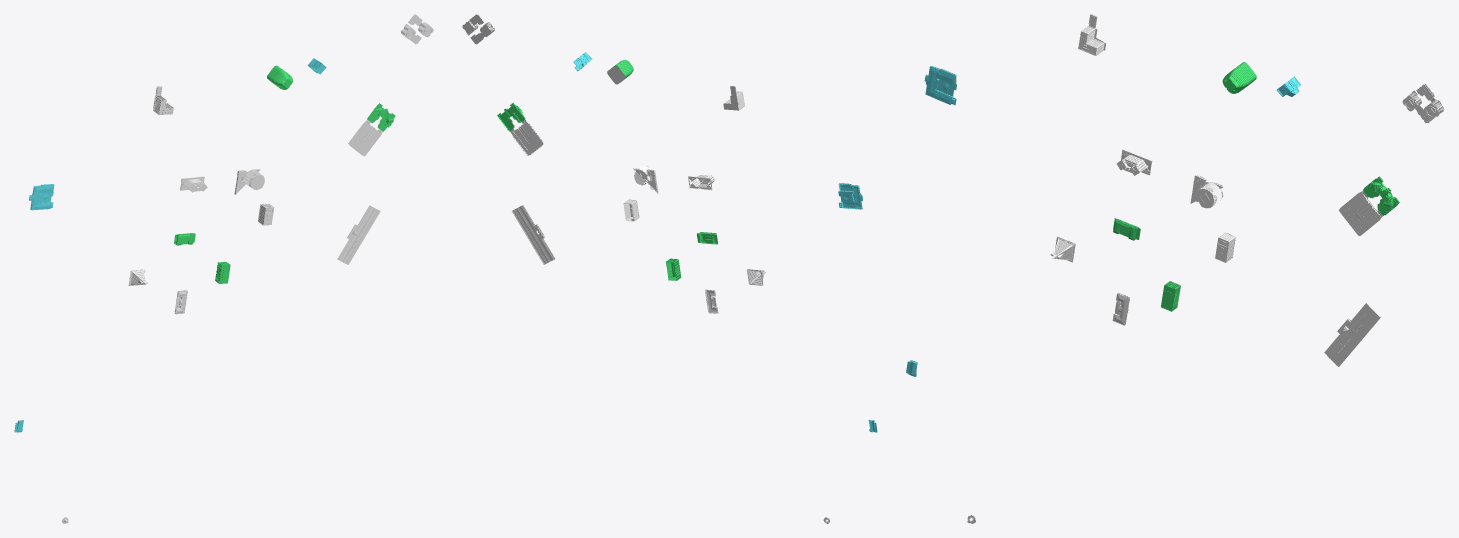
3 renders of one model, left to right at view 1: azimuth 30°, elevation 25°; view 2: azimuth 150°, elevation 25°; view 3: azimuth 330°, elevation 25°, orthographic. The views are drawn at different scales.
Size of the model in its own units: 6545 by 6397 by 330.
